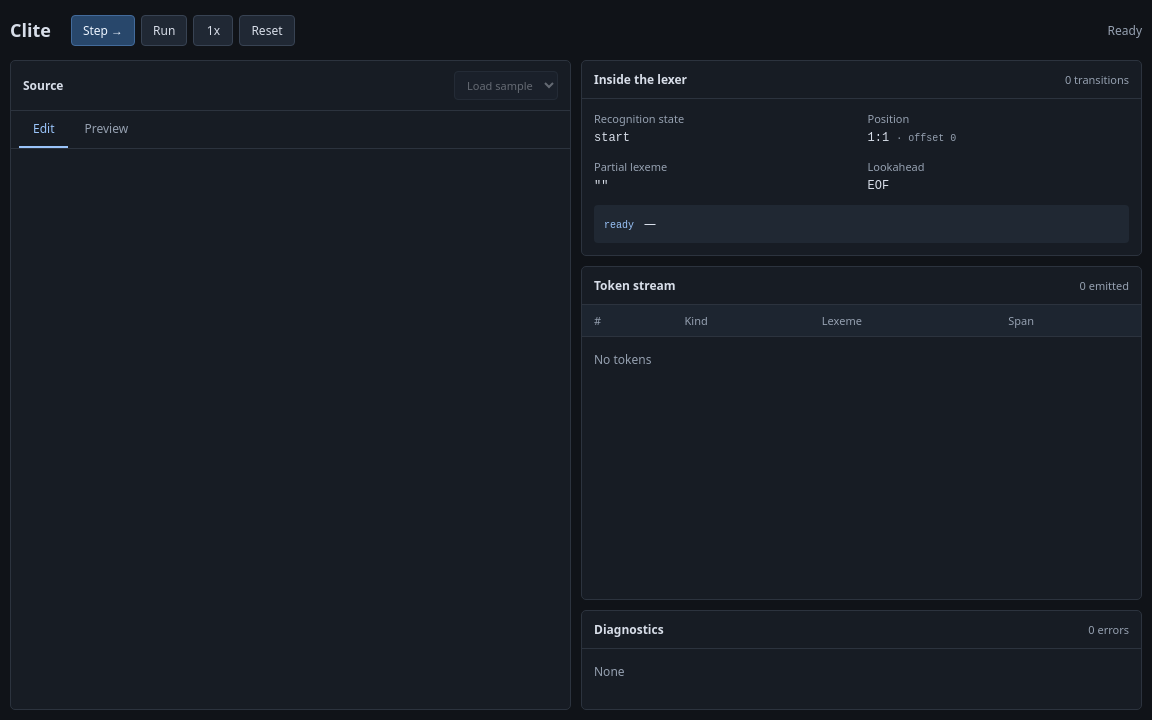
Test: lexer interface › shows diagnostics and continues to valid tokens
Step 1. Type "@ int" into the text box named "Source code" → point(290, 429), box [11,149,570,709]
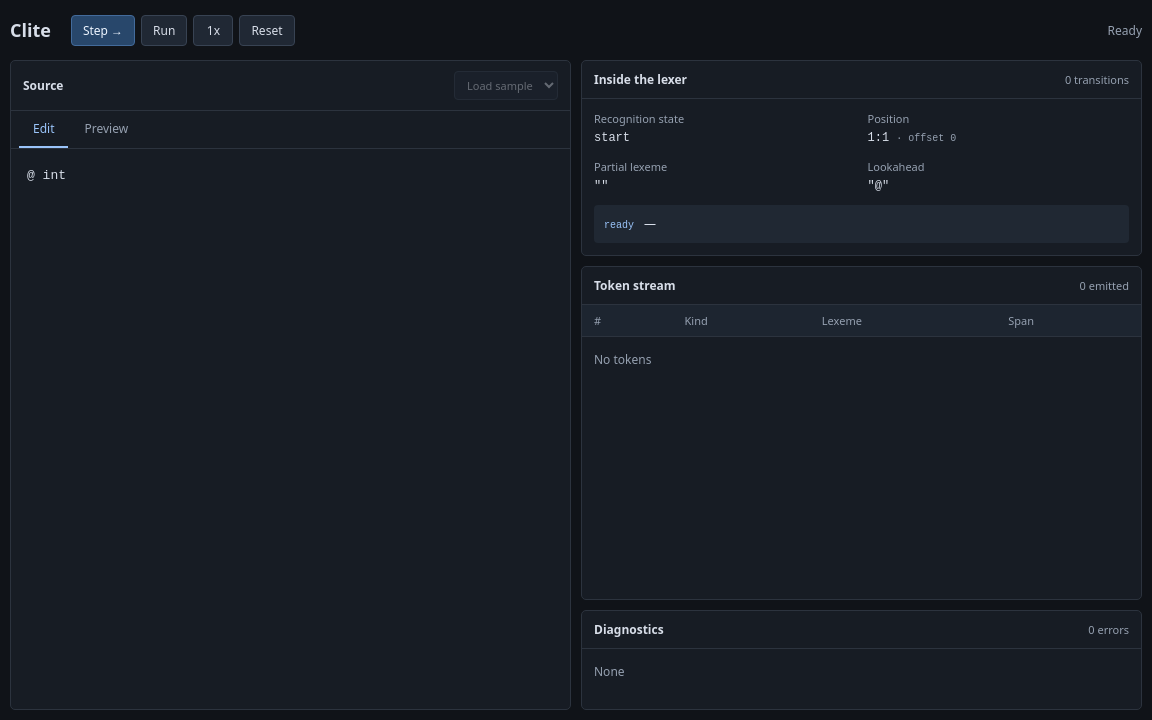
Step 2. Click the button "Run" → point(164, 30), box [141,14,187,46]
Wait 3400 ms
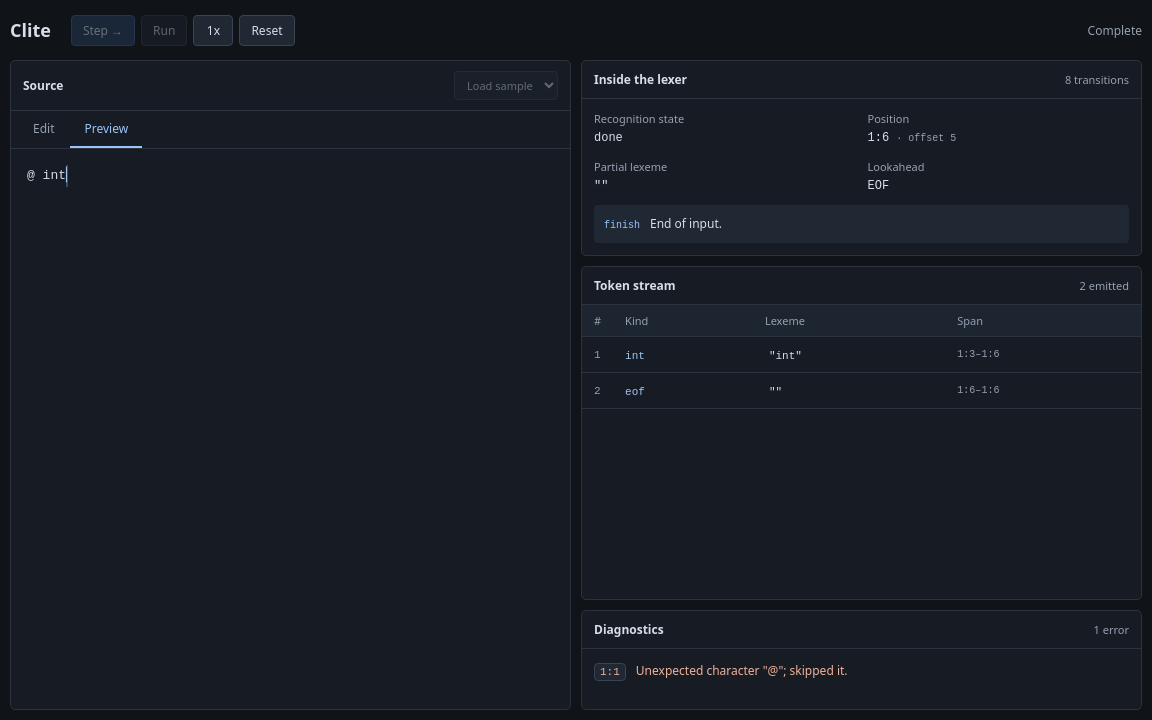
Expected: the text with test id "playback-status" reads "Complete", [1088,22,1142,38]
Expected: the text "1 error" is shown, [1094,622,1129,637]
Expected: the text "int" is shown, [625,350,645,362]
